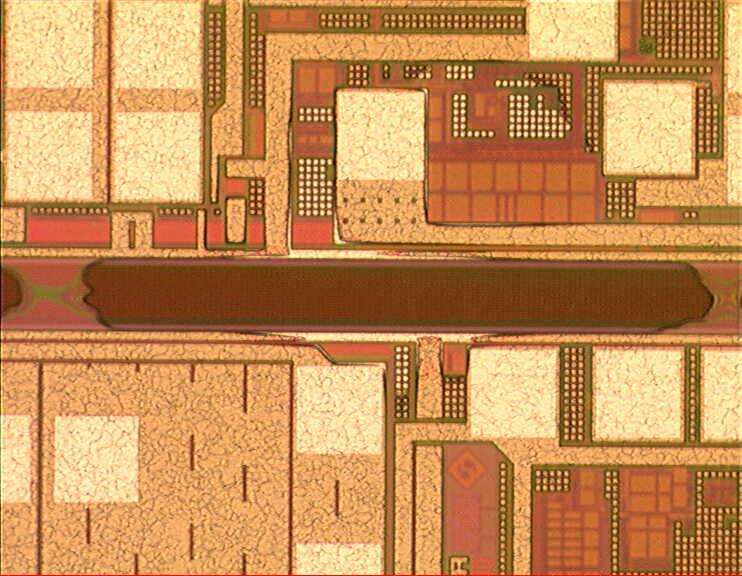COATING BAD: (1, 55, 742, 337)
